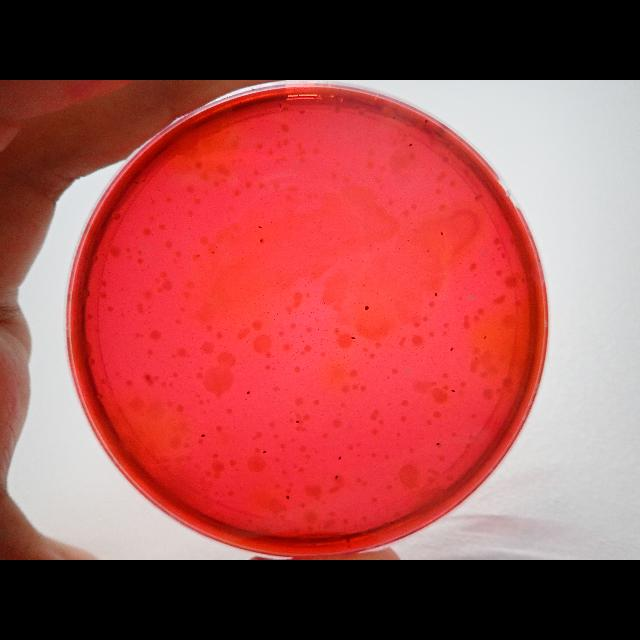colony: (365, 305, 369, 311), (258, 224, 262, 230), (424, 118, 428, 124), (350, 336, 356, 340), (434, 292, 438, 296), (436, 442, 440, 446), (335, 475, 339, 479), (338, 456, 342, 460), (286, 495, 290, 499), (201, 434, 205, 438), (278, 104, 282, 108), (392, 116, 396, 120), (409, 143, 413, 147), (451, 389, 455, 393), (451, 347, 454, 351), (262, 451, 266, 454), (296, 421, 300, 424), (247, 391, 250, 395), (441, 232, 443, 236), (484, 335, 486, 339), (260, 238, 262, 242), (134, 182, 138, 184), (391, 522, 394, 524)
